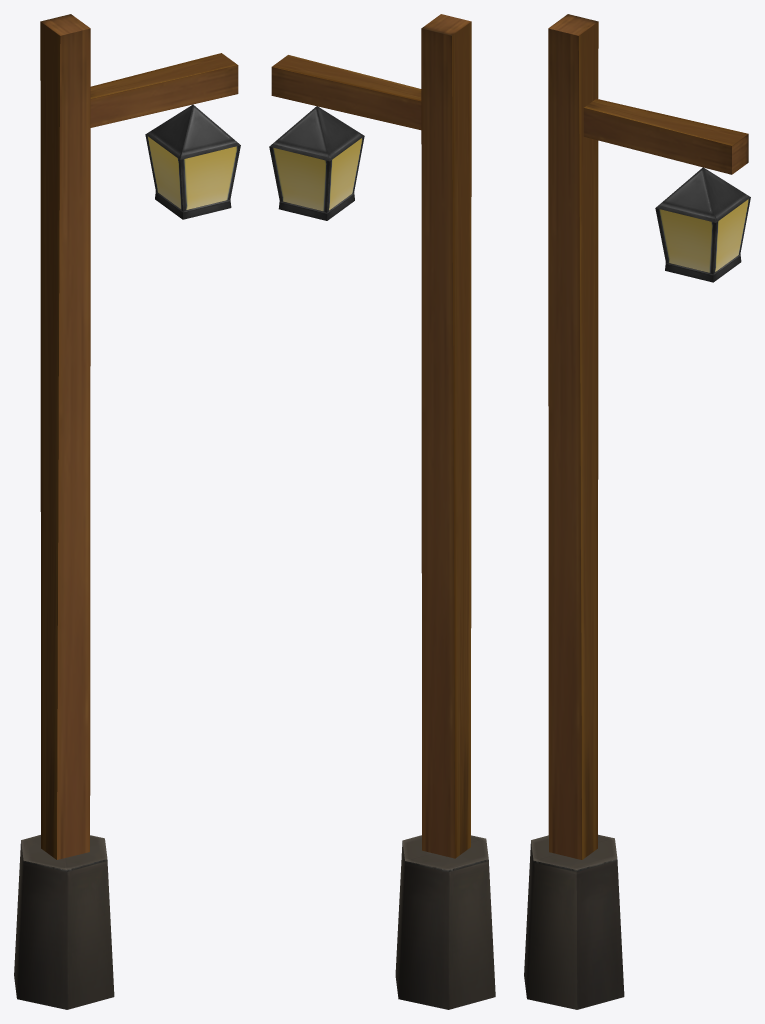
File: OutdoorM_streetlamp_a.FBX
3 renders of one model, left to right at view 1: azimuth 30°, elevation 25°; view 2: azimuth 150°, elevation 25°; view 3: azimuth 330°, elevation 25°, orthographic.
Parts seen in each view (by area): view 1: OutdoorM_streetlamp_a; view 2: OutdoorM_streetlamp_a; view 3: OutdoorM_streetlamp_a.
Part boxes in pixels (x1=…): OutdoorM_streetlamp_a: x1=14, y1=14, x2=240, y2=1009; OutdoorM_streetlamp_a: x1=269, y1=14, x2=495, y2=1009; OutdoorM_streetlamp_a: x1=524, y1=14, x2=750, y2=1009.
Bounding box in the file's own units: 6.63 × 28.42 × 2.69.
